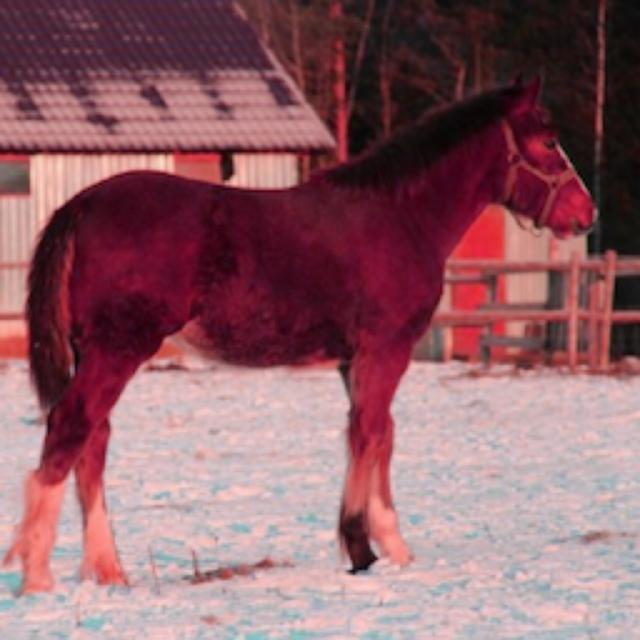Horse: (0, 67, 602, 597)
